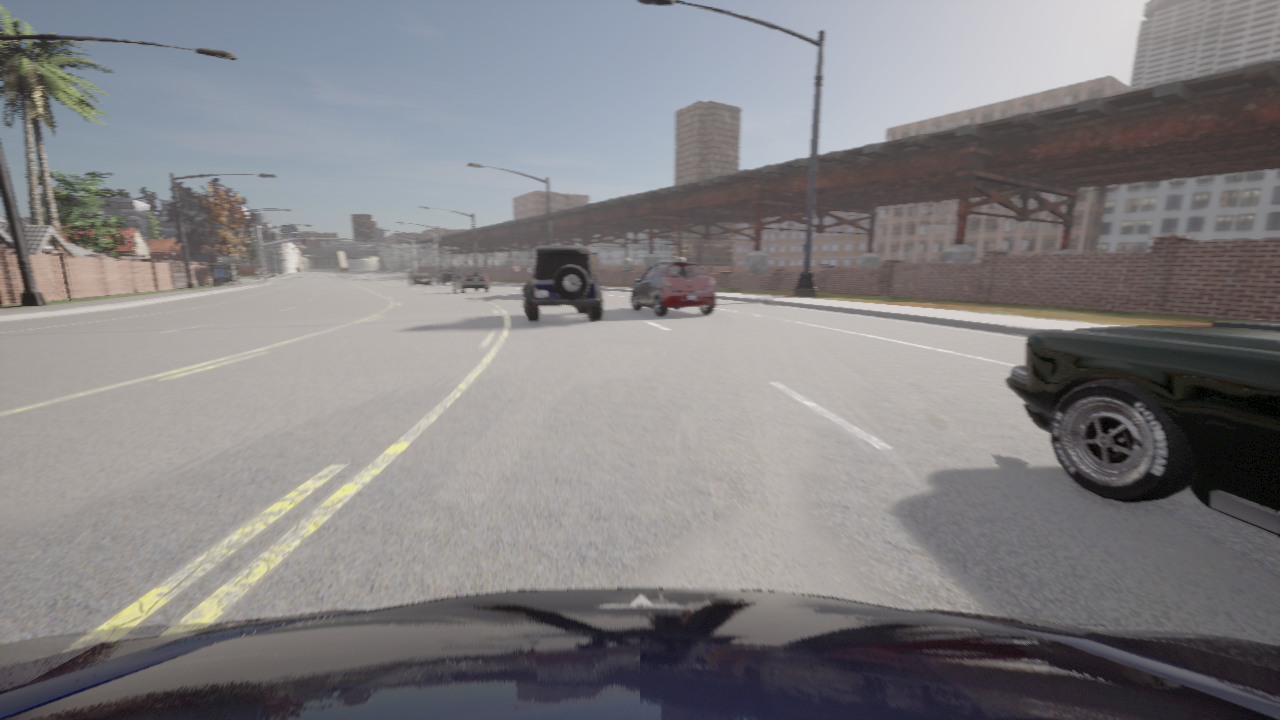cyclist: (0, 588, 1279, 719), (1006, 321, 1279, 536), (522, 246, 602, 322), (631, 263, 715, 315), (531, 249, 599, 285), (452, 268, 489, 293), (436, 267, 459, 285), (408, 272, 432, 286)
